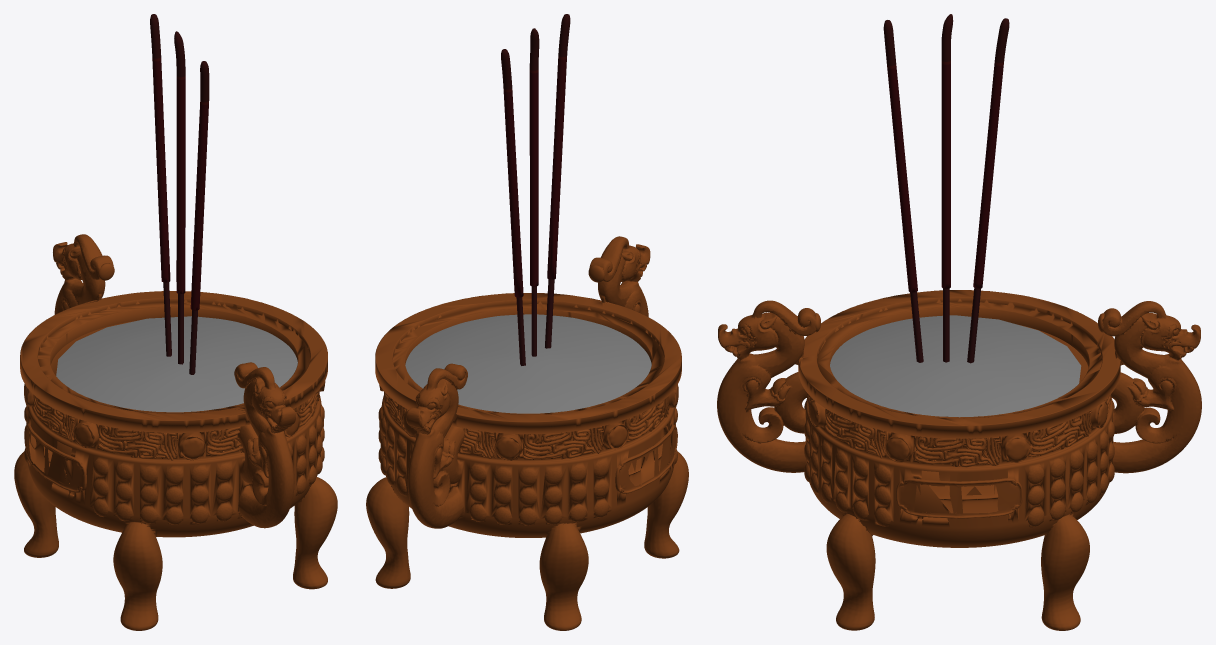
3 views of the same model, side by side, from view 1: azimuth 30°, elevation 25°; view 2: azimuth 150°, elevation 25°; view 3: azimuth 270°, elevation 25° (orthographic). The views are drawn at different scales.
Bounding box in the file's own units: 0.6634 × 1.29 × 0.9977.
